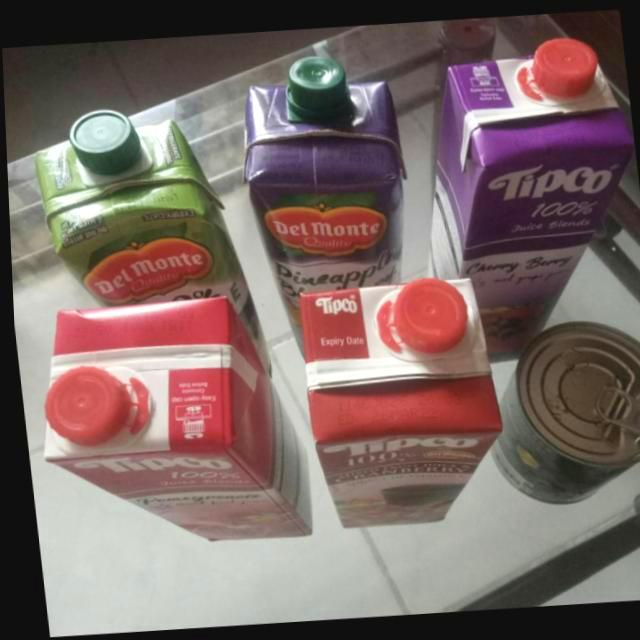aluminum: (488, 320, 640, 503)
